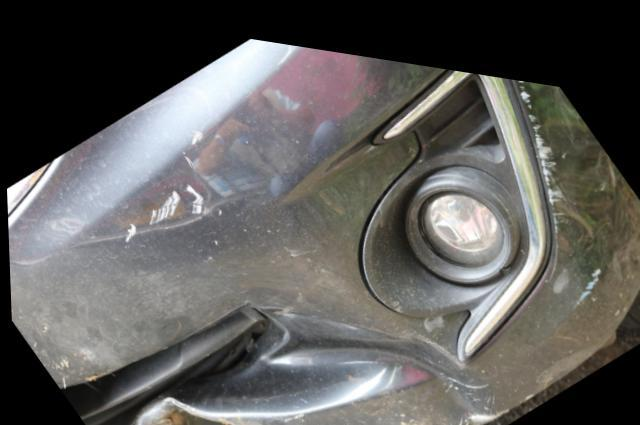dent: (164, 294, 487, 425)
scratch: (119, 125, 215, 237), (515, 63, 569, 217)
